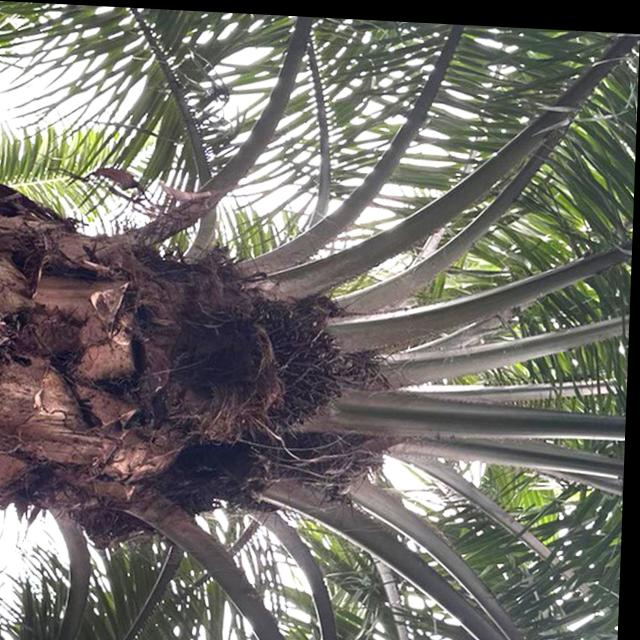almost: (223, 294, 353, 435)
